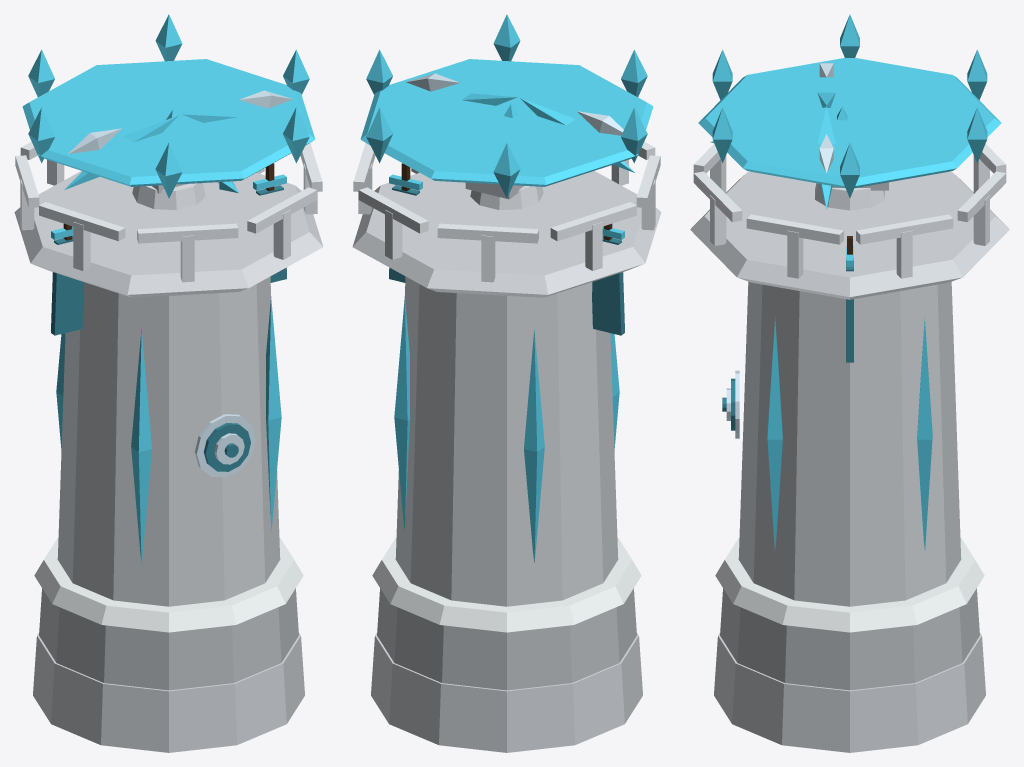
Rendered from tower_arrow_l3_split.glb.
3 views of the same model, side by side, from view 1: azimuth 30°, elevation 25°; view 2: azimuth 150°, elevation 25°; view 3: azimuth 270°, elevation 25° (orthographic).
Visible parts, largest first — view 1: Body, Turret; view 2: Body, Turret; view 3: Body, Turret.
Part boxes in pixels (bbox=[...]): Body: bbox=[14, 14, 323, 752]; Turret: bbox=[64, 90, 292, 210]; Body: bbox=[352, 14, 661, 752]; Turret: bbox=[406, 73, 634, 210]; Body: bbox=[690, 14, 1009, 752]; Turret: bbox=[710, 63, 888, 210].
Bounding box in the file's own units: 0.8225 × 1.76 × 0.8225.
